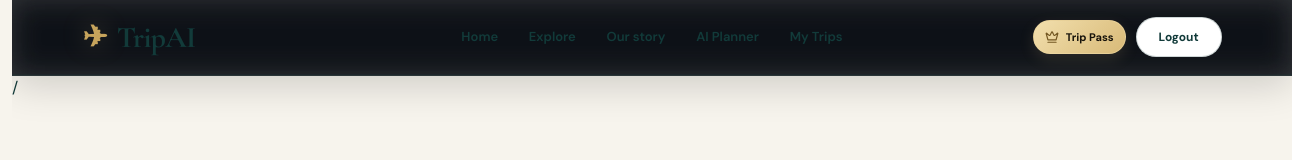
Test case: hides the account name and links the Trip Pass to travel plans
The width and height of the screenshot is (1292, 160).
Expected: the button "Logout" is shown, [1136, 17, 1222, 57]
Click the link "Trip Pass": (1079, 37) [1033, 20, 1126, 54]
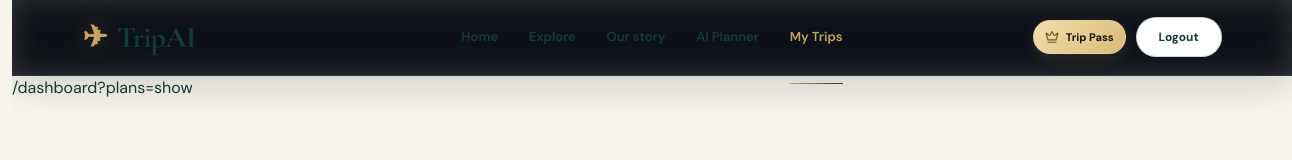
Expected: the text with test id "current-location" reads "/dashboard?plans=show", [12, 77, 193, 98]
